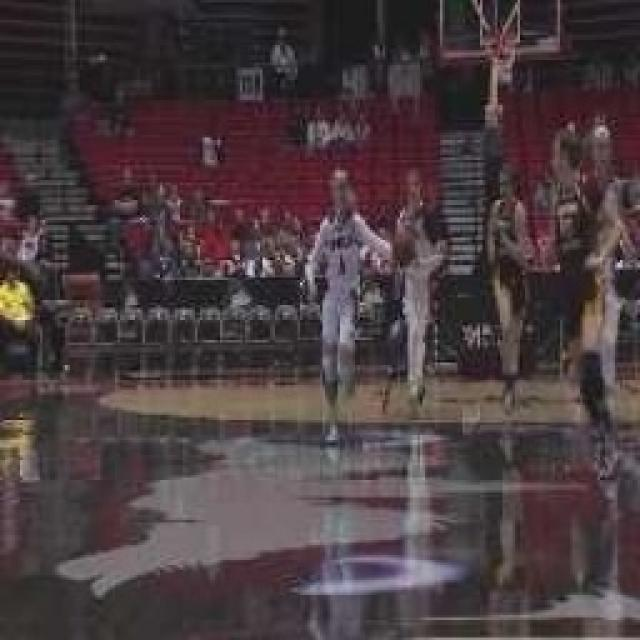basketball: (388, 230, 416, 268)
